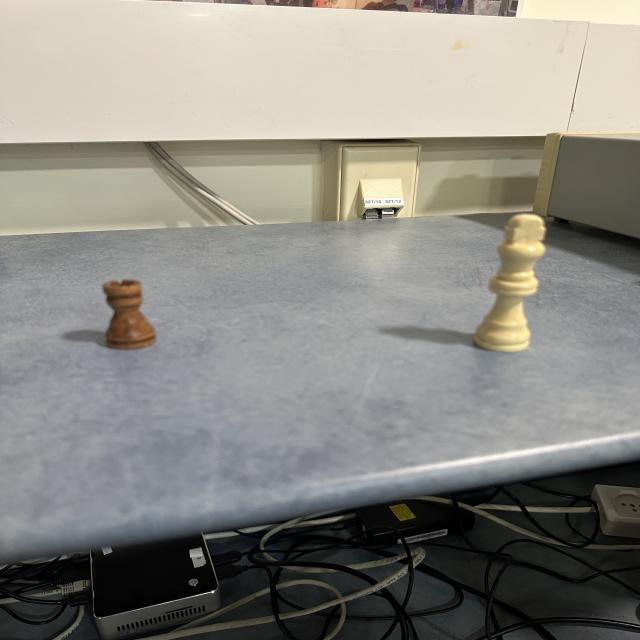Black-Rook: (100, 279, 155, 353)
White-King: (473, 214, 548, 354)
